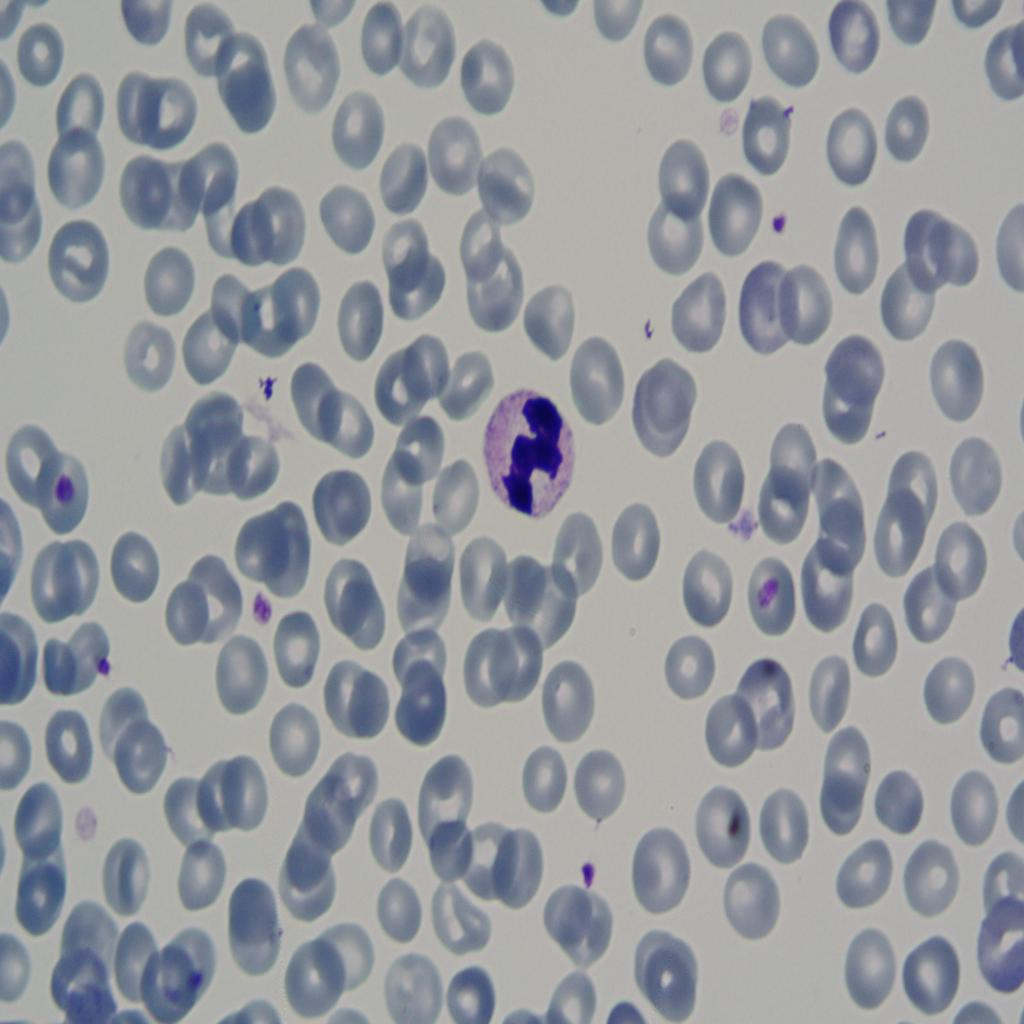Neutrofil: (469, 365, 583, 540)
Platelet: (246, 588, 280, 644), (760, 190, 787, 250), (569, 856, 598, 894), (92, 646, 116, 689), (250, 368, 273, 398), (56, 475, 74, 513)
